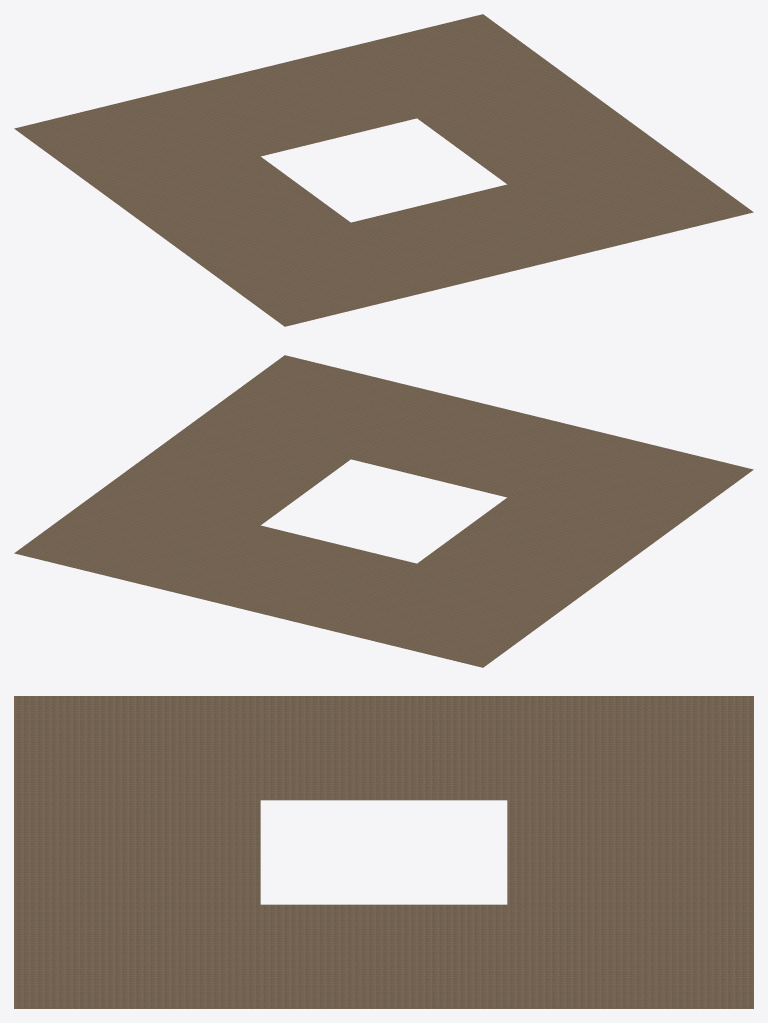
3 renders of one model, top to bottom at view 1: azimuth 30°, elevation 25°; view 2: azimuth 150°, elevation 25°; view 3: azimuth 270°, elevation 25°, orthographic. The views are drawn at different scales.
Parts seen in each view (by area): view 1: Ground.002; view 2: Ground.002; view 3: Ground.002.
Boxes of the visible parts, bbox=[...] form: Ground.002: bbox=[14, 14, 753, 326]; Ground.002: bbox=[14, 355, 753, 667]; Ground.002: bbox=[14, 696, 753, 1008].
Size of the model in its own units: 420 by 0.00204 by 420.
